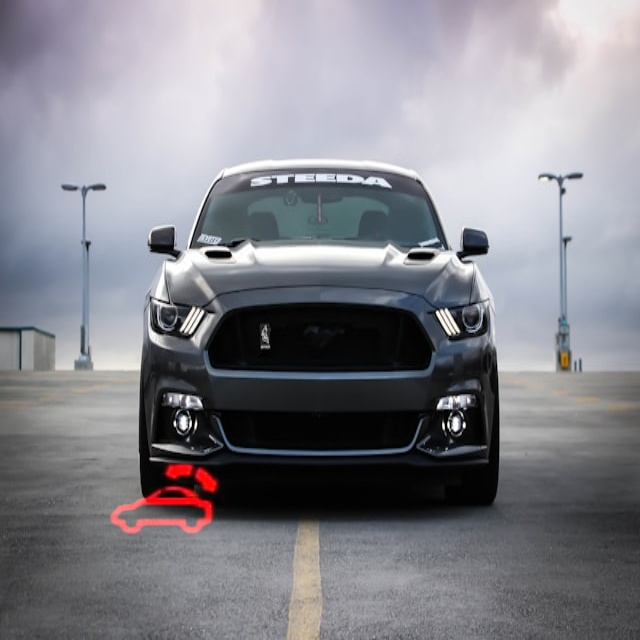symbol: (85, 422, 243, 580)
